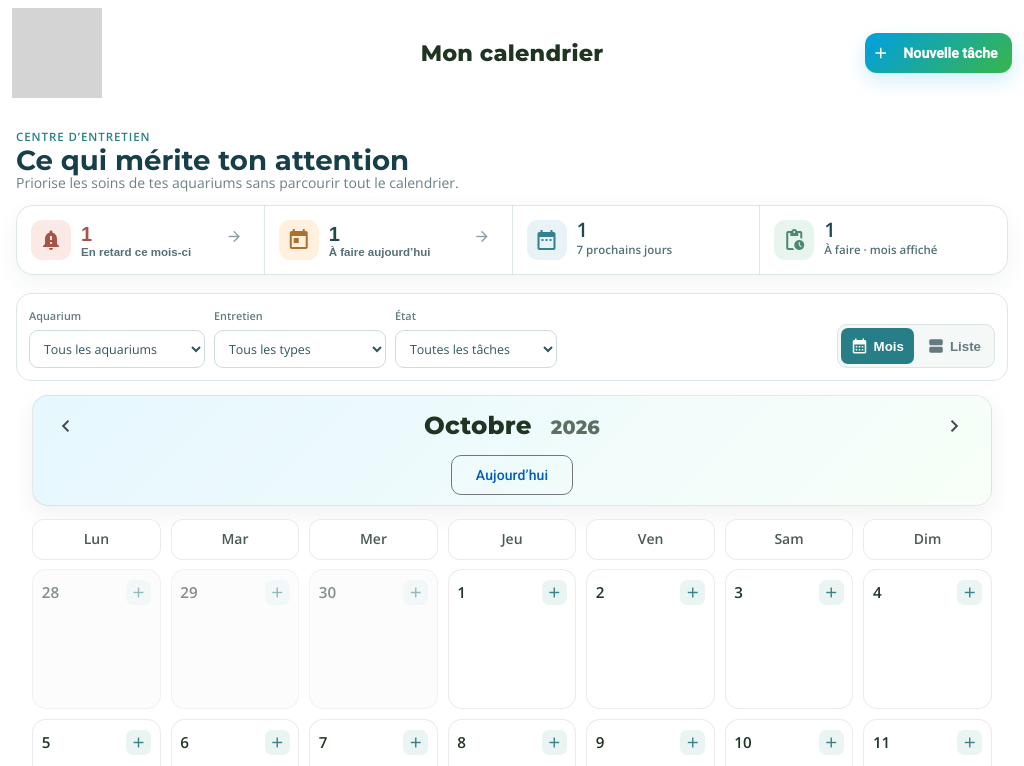
Test case: Parcours utilisateur : validations et dates › classe la tâche au jour local et conserve les prochaines tâches au changement de mois
Expected: the 3rd text "1" is shown, [576,216,588,243]
Expected: the 2nd text "1" is shown, [329,222,340,244]
Click the button named "Mois suivant": (954, 426) [934,406,974,446]
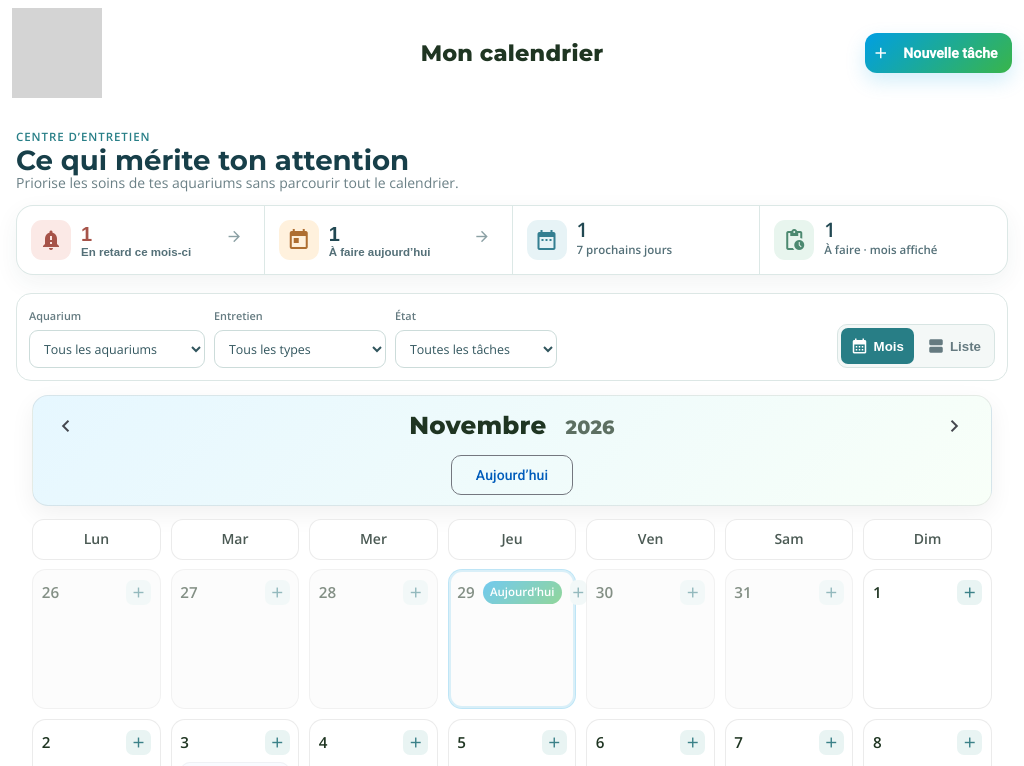
Expected: the 3rd text "1" is shown, [576,216,588,243]
Result: the heading with class "cal__title" shows "Novembre" at [409,410,615,440]
